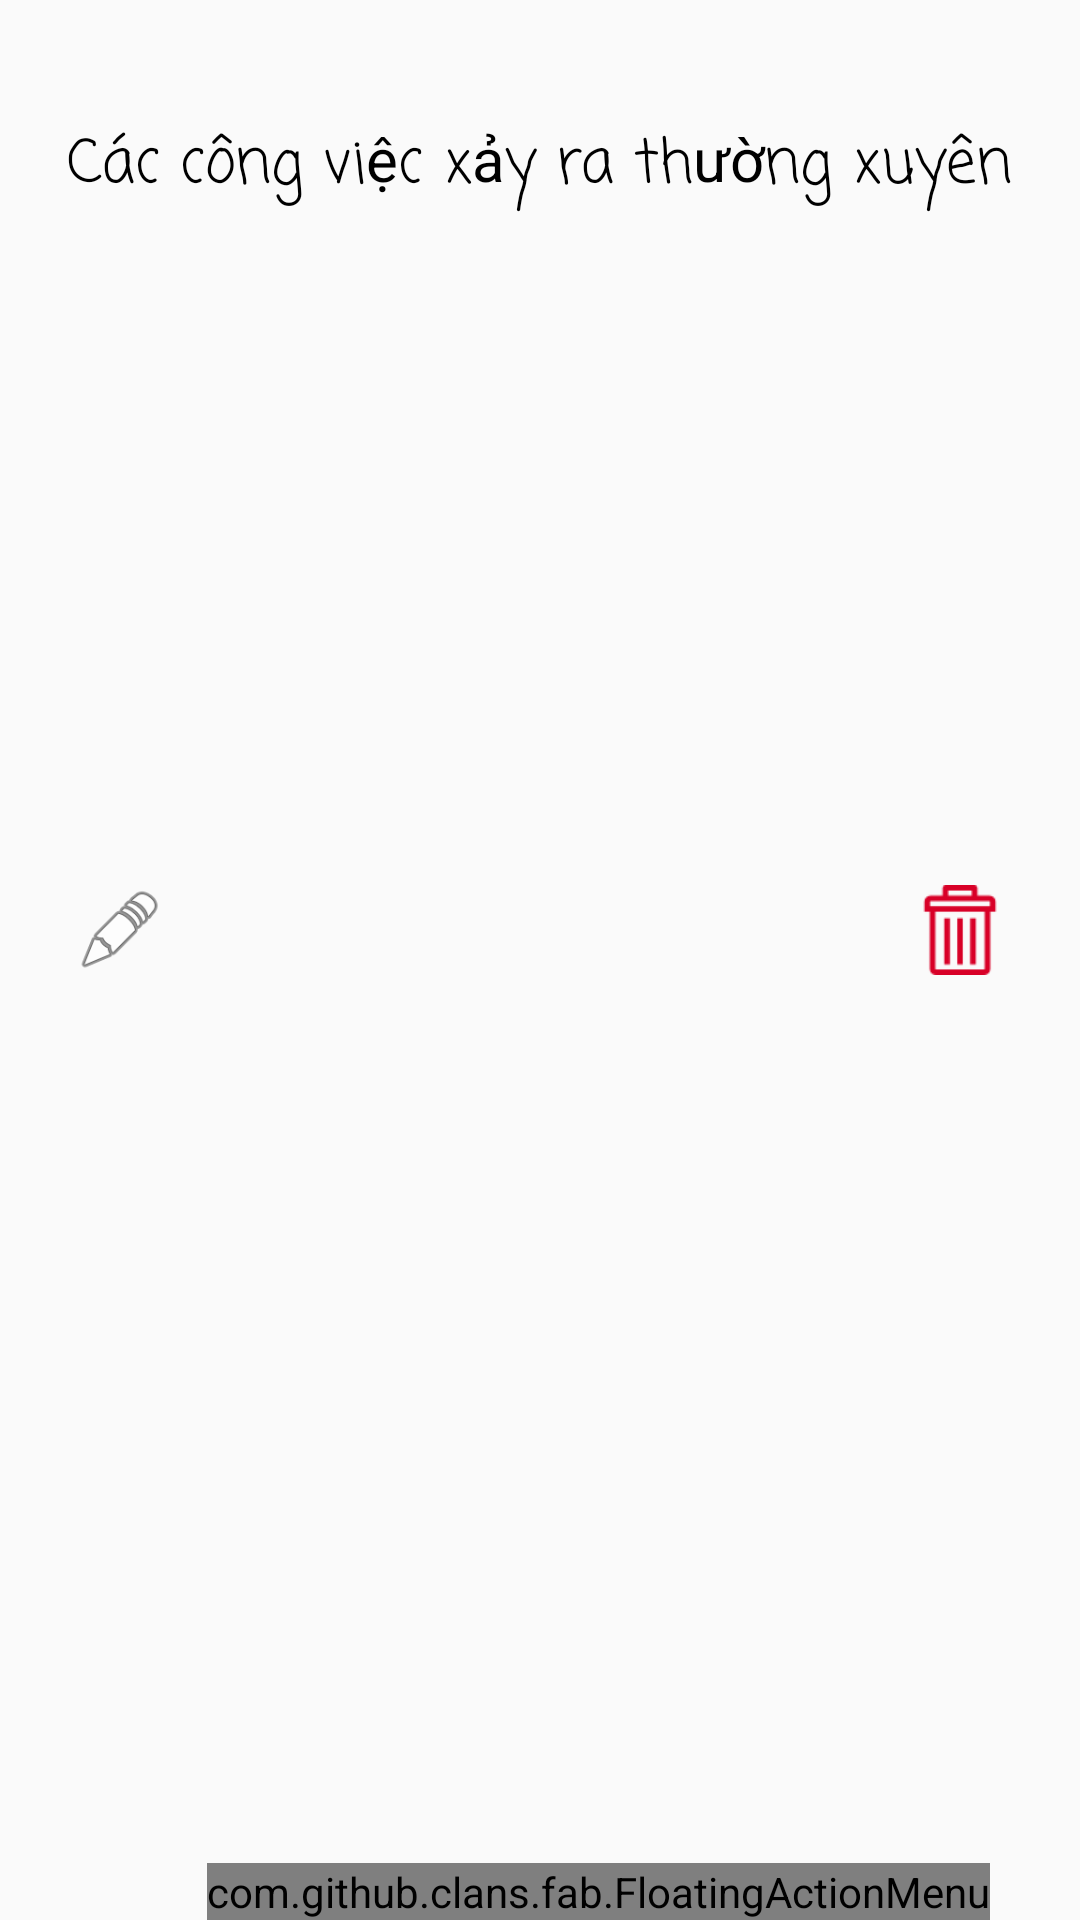

Where icons sit on this 1080px x 1920px app screen, as {"left": x1, "top": y1, "right": x2, "bottom": y2}:
edit: {"left": 81, "top": 891, "right": 158, "bottom": 968}
